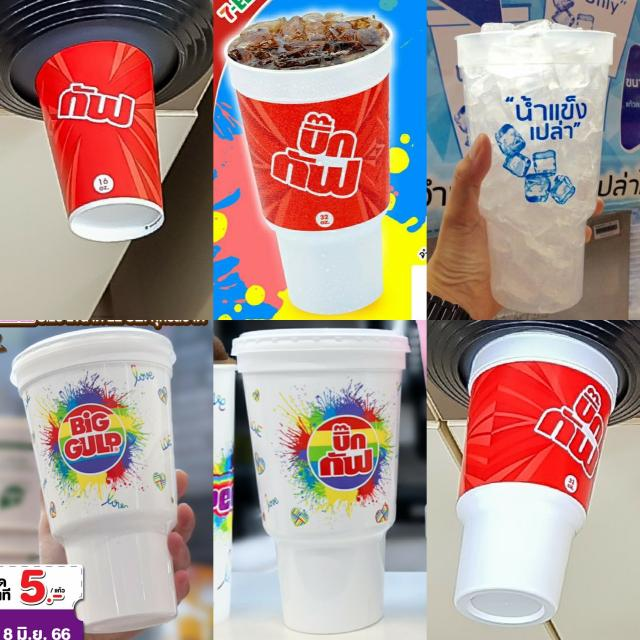Single-Use-Plastic: (232, 329, 409, 632), (11, 328, 176, 632), (226, 13, 392, 314), (454, 332, 618, 625), (456, 21, 614, 313), (35, 41, 162, 241)
